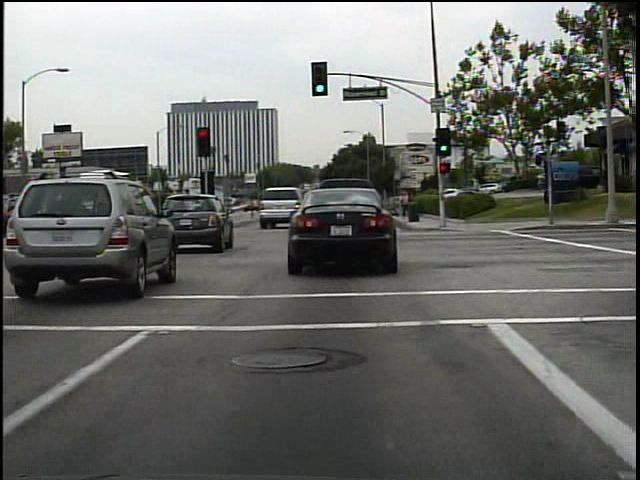person: (399, 190, 410, 220)
